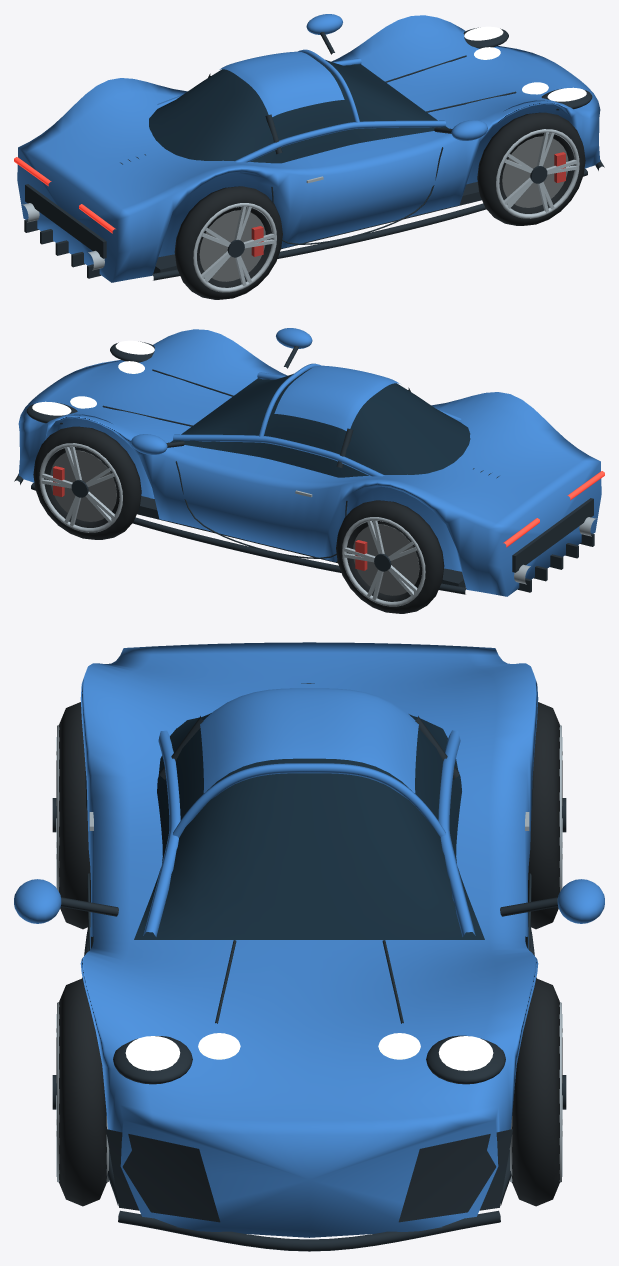
File: car25.glb
3 renders of one model, top to bottom at view 1: azimuth 30°, elevation 25°; view 2: azimuth 150°, elevation 25°; view 3: azimuth 270°, elevation 25°, orthographic. The views are drawn at different scales.
Visible parts, largest first — view 1: continuous-sculpted-body, CAR25, curved-windows, roof-panel; view 2: continuous-sculpted-body, CAR25, curved-windows, roof-panel; view 3: continuous-sculpted-body, CAR25, curved-windows, roof-panel.
Part boxes in pixels (x1,y1,x2,y2): continuous-sculpted-body: (17, 15, 600, 282); CAR25: (14, 14, 604, 299); curved-windows: (149, 54, 448, 163); roof-panel: (219, 51, 344, 116); continuous-sculpted-body: (18, 329, 601, 596); CAR25: (14, 328, 604, 613); curved-windows: (170, 368, 470, 477); roof-panel: (274, 365, 399, 430); continuous-sculpted-body: (80, 642, 538, 1237); CAR25: (14, 683, 604, 1251); curved-windows: (134, 713, 484, 939); roof-panel: (200, 688, 418, 793).
Size of the model in its own units: 4.24 by 1.26 by 2.22.
